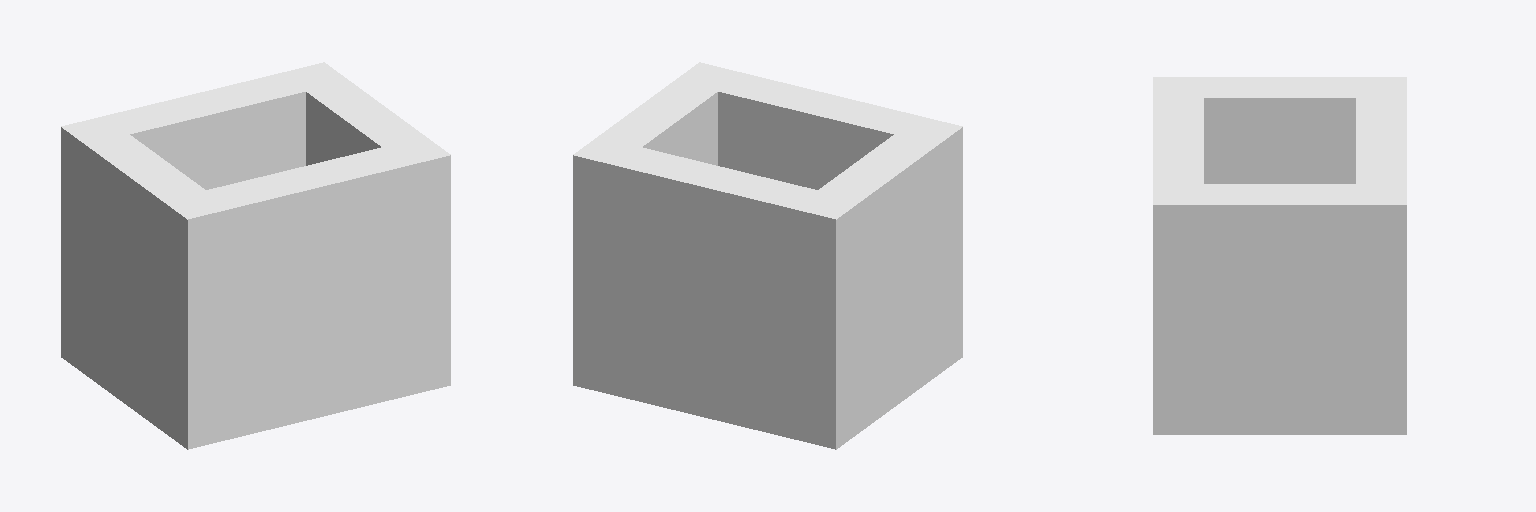
File: Jacket.obj
The picture shows the model from 3 angles: view 1: azimuth 30°, elevation 25°; view 2: azimuth 150°, elevation 25°; view 3: azimuth 270°, elevation 25°; orthographic projection.
Parts seen in each view (by area): view 1: object 1; view 2: object 1; view 3: object 1.
Boxes of the visible parts, box(x1,y1,x2,y2) form: object 1: box(61, 62, 450, 449); object 1: box(573, 62, 962, 449); object 1: box(1153, 77, 1406, 434).
Size of the model in its own units: 0.6 by 0.5 by 0.5.